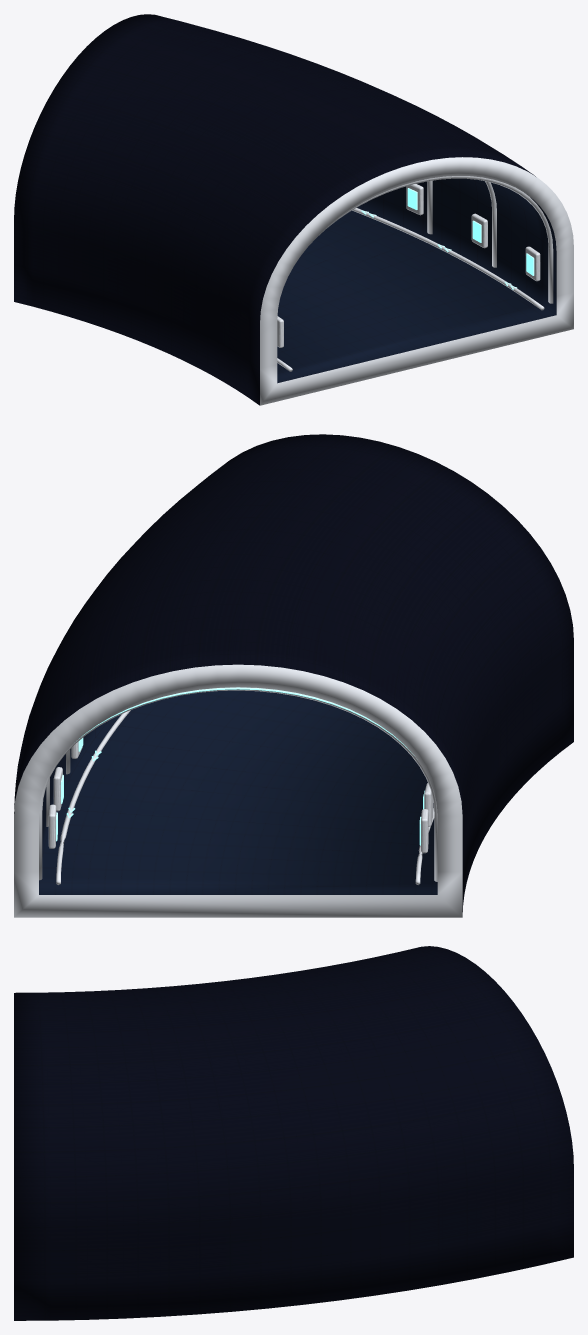
The model's file is curve_left_30.glb.
3 views of the same model, one above another, from view 1: azimuth 30°, elevation 25°; view 2: azimuth 150°, elevation 25°; view 3: azimuth 270°, elevation 25° (orthographic). The views are drawn at different scales.
Visible parts, largest first — view 1: TunnelGeometry; view 2: TunnelGeometry; view 3: TunnelGeometry.
Boxes of the visible parts, bbox=[...] form: TunnelGeometry: bbox=[14, 14, 573, 405]; TunnelGeometry: bbox=[14, 434, 573, 917]; TunnelGeometry: bbox=[14, 946, 573, 1320].
Size of the model in its own units: 19.1 by 9.52 by 21.83.
Materials: 4 (2 with a texture image).
